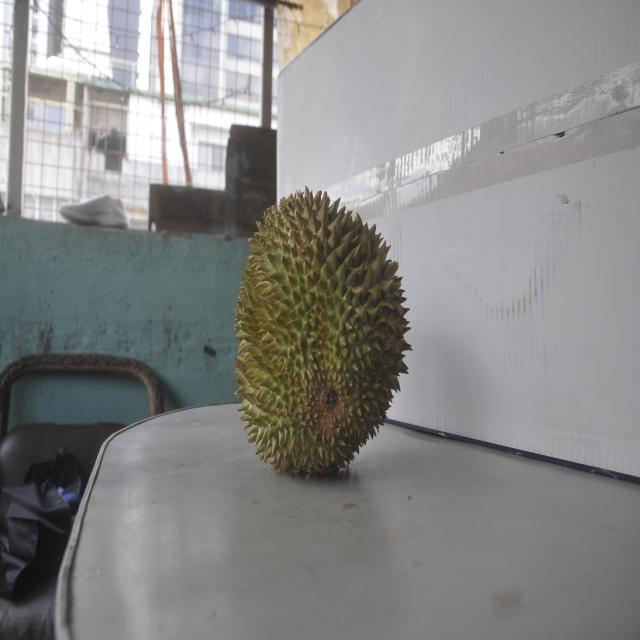mature: (234, 186, 406, 476)
